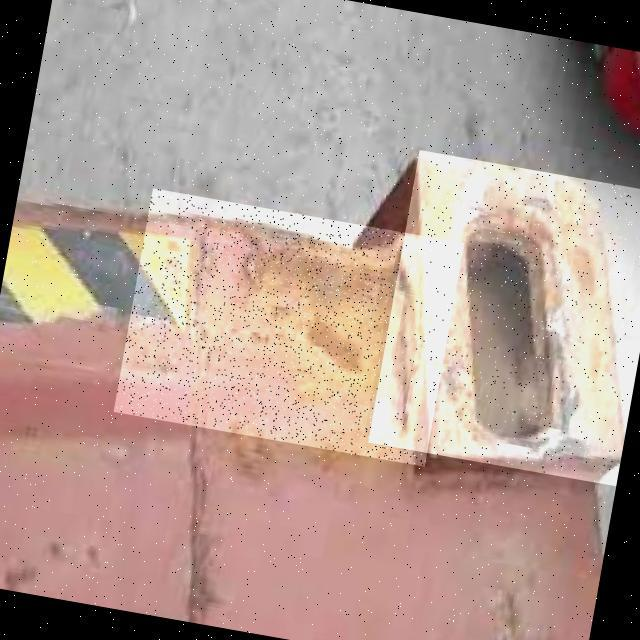Deframe: (113, 188, 464, 466)
Hole: (363, 248, 439, 447)
Rust: (367, 149, 640, 485)
